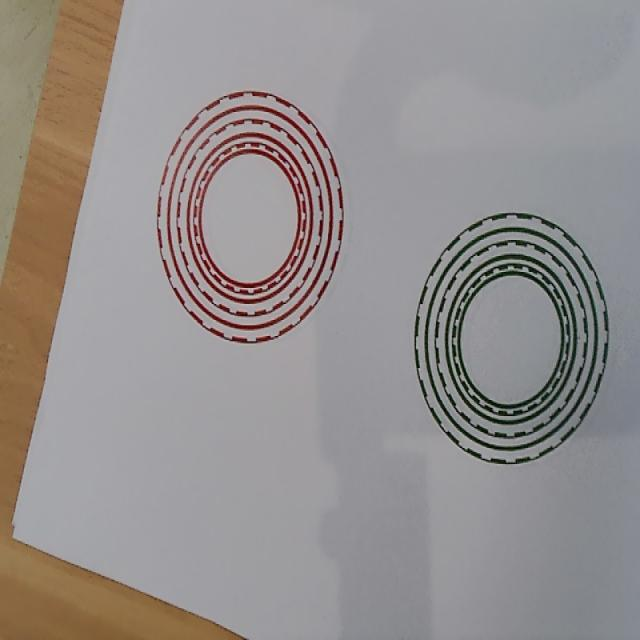g: (414, 213, 610, 466)
red-green-blue: (156, 90, 343, 344)
